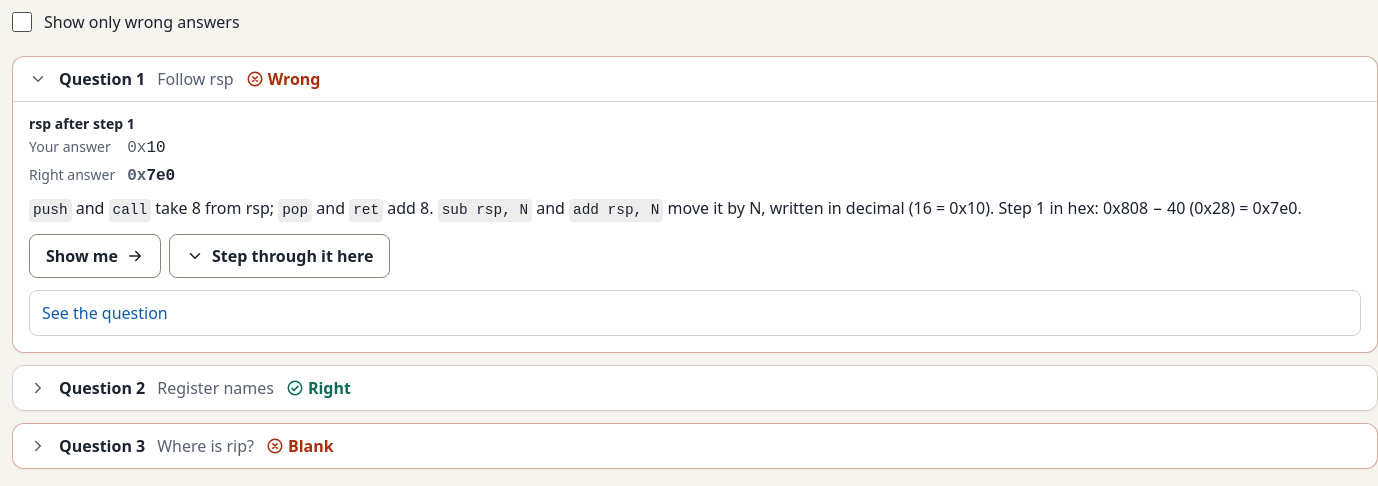
Test: the review of a finished quiz › opens a wrong answer with only its wrong parts; a right one and a blank one are one closed line
Check: the heading "Question 2 Register names Right" is shown, box [29,377,351,399]
Check: the heading "Question 3 Where is rip? Blank" is shown, box [29,435,334,457]
Click the checkbox labelled "Show only wrong answers": (22, 22) [12,12,32,32]
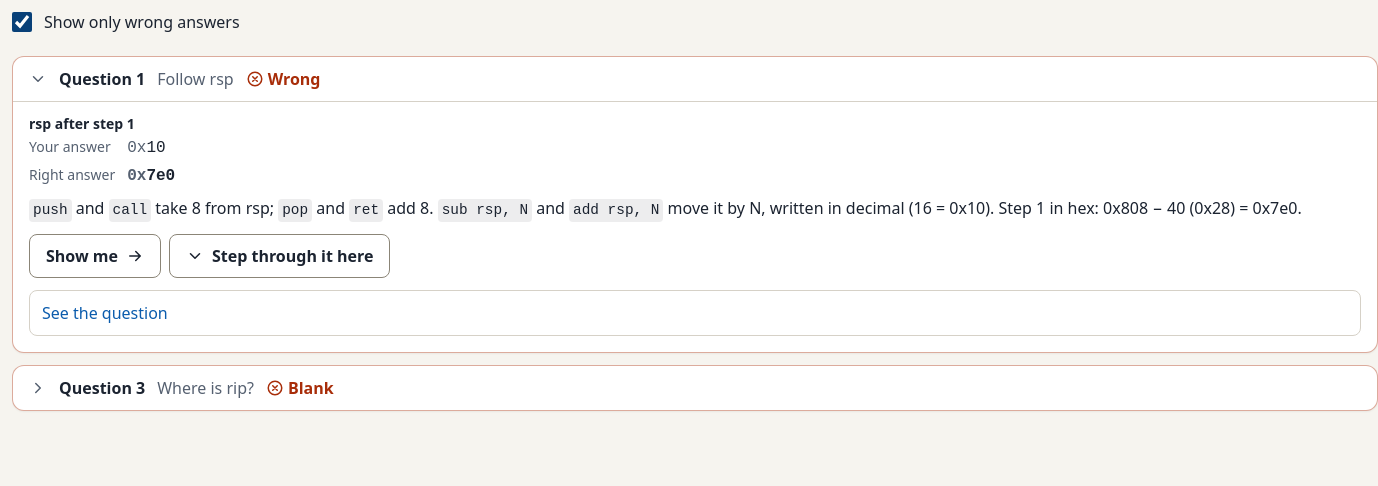
Check: the number of list items is 2
